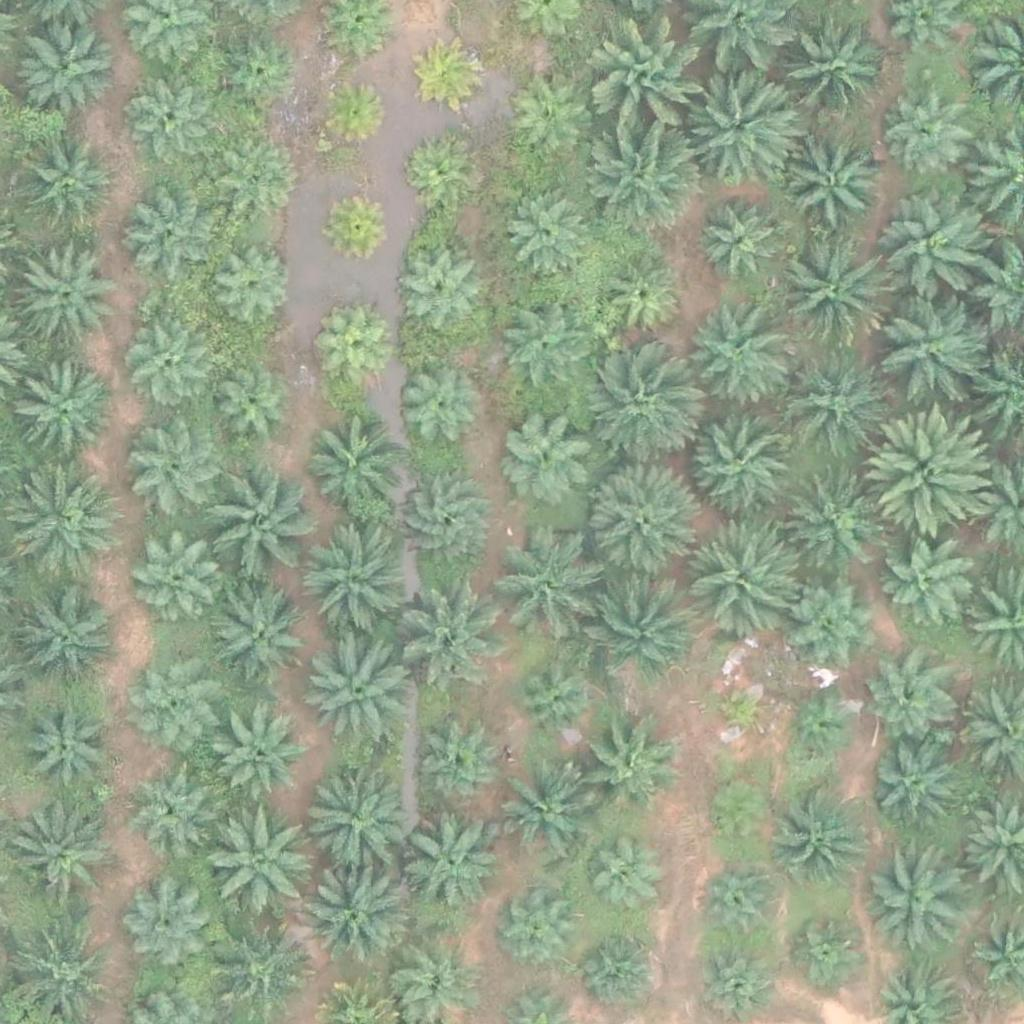Kelapa_Sawit: (870, 410, 995, 536), (872, 288, 985, 402), (296, 631, 409, 745), (773, 17, 886, 131), (774, 236, 887, 349), (778, 348, 891, 461), (685, 403, 798, 516), (582, 464, 695, 577), (301, 858, 414, 971), (293, 762, 406, 875), (5, 361, 118, 474), (6, 470, 119, 583), (589, 121, 702, 234), (879, 194, 992, 307), (582, 566, 694, 680), (299, 527, 411, 641), (201, 804, 313, 918), (595, 25, 707, 139), (678, 304, 790, 417), (683, 521, 795, 634), (580, 355, 692, 468), (393, 572, 505, 685), (197, 466, 309, 579), (685, 68, 797, 181), (782, 469, 882, 570), (784, 570, 884, 671), (576, 718, 676, 819), (490, 767, 590, 868), (490, 539, 590, 640), (400, 815, 500, 916), (303, 415, 403, 516), (206, 583, 306, 684), (208, 920, 308, 1021), (127, 420, 227, 521), (16, 240, 116, 341), (10, 813, 110, 914), (785, 133, 885, 234), (17, 15, 117, 116), (16, 132, 116, 233), (123, 184, 223, 285), (775, 784, 875, 885), (867, 849, 967, 949), (497, 405, 597, 505), (395, 473, 495, 573), (17, 588, 116, 689), (864, 657, 952, 745), (597, 254, 685, 342), (511, 656, 599, 744), (392, 247, 480, 335), (218, 716, 306, 804), (120, 884, 208, 972), (118, 319, 206, 407), (214, 27, 302, 115), (214, 145, 302, 233), (697, 199, 785, 287), (505, 78, 593, 166), (125, 75, 213, 163), (867, 744, 954, 833), (497, 304, 584, 393), (882, 537, 969, 625), (699, 859, 786, 947), (394, 363, 481, 451), (416, 725, 503, 813), (210, 243, 297, 331), (207, 367, 294, 455), (121, 762, 208, 850), (130, 650, 217, 738), (133, 535, 220, 623), (24, 701, 111, 789), (888, 93, 975, 181), (504, 187, 591, 275), (399, 133, 474, 209), (582, 842, 657, 918), (584, 930, 659, 1006), (783, 690, 858, 766), (702, 777, 777, 853), (316, 313, 391, 389), (321, 186, 396, 262), (414, 37, 489, 113), (790, 912, 865, 987), (502, 897, 577, 972), (316, 76, 391, 151), (709, 678, 771, 741)
